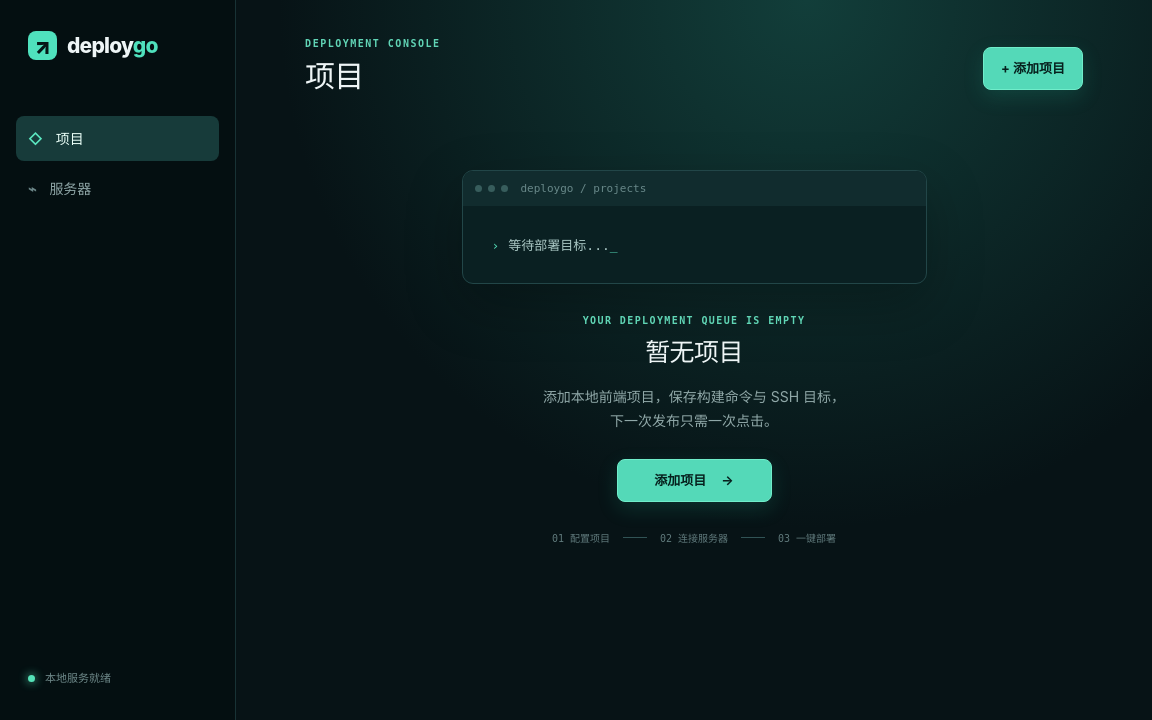
opens the project configuration form
The width and height of the screenshot is (1152, 720).
Click the button "+ 添加项目".
click(1033, 69)  # box [983, 47, 1083, 90]
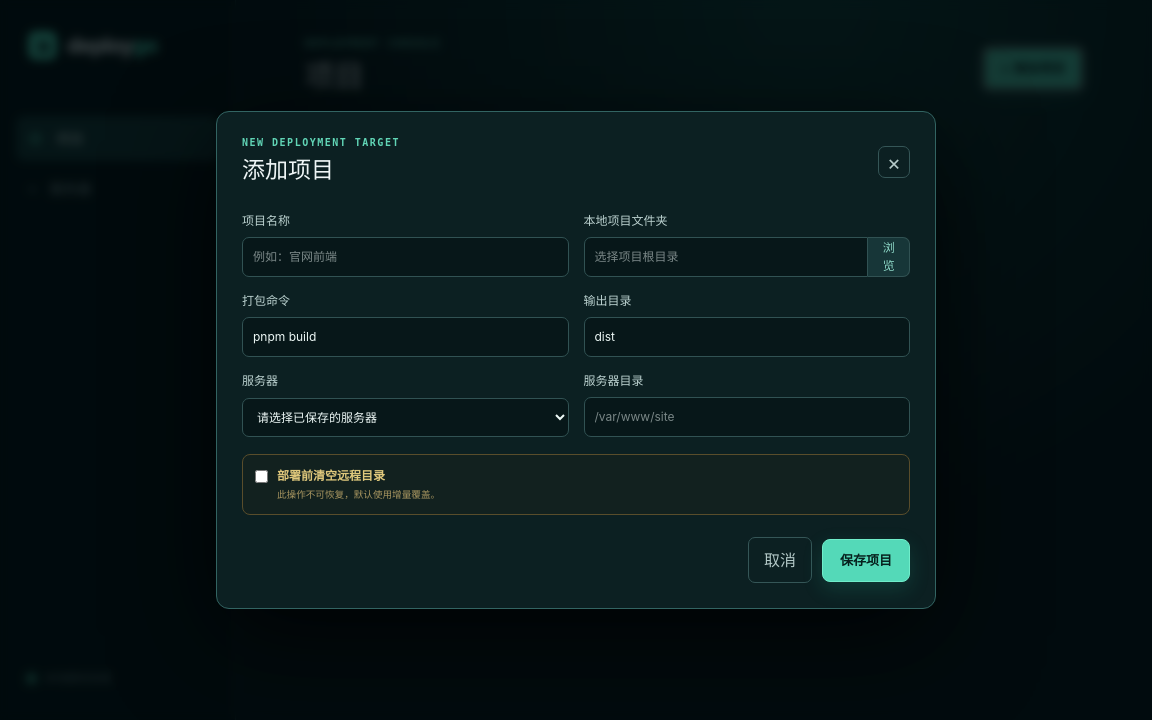
Check: the heading "添加项目" is shown, box [242, 156, 334, 184]
Check: the field labelled "打包命令" is shown, box [242, 317, 568, 357]
